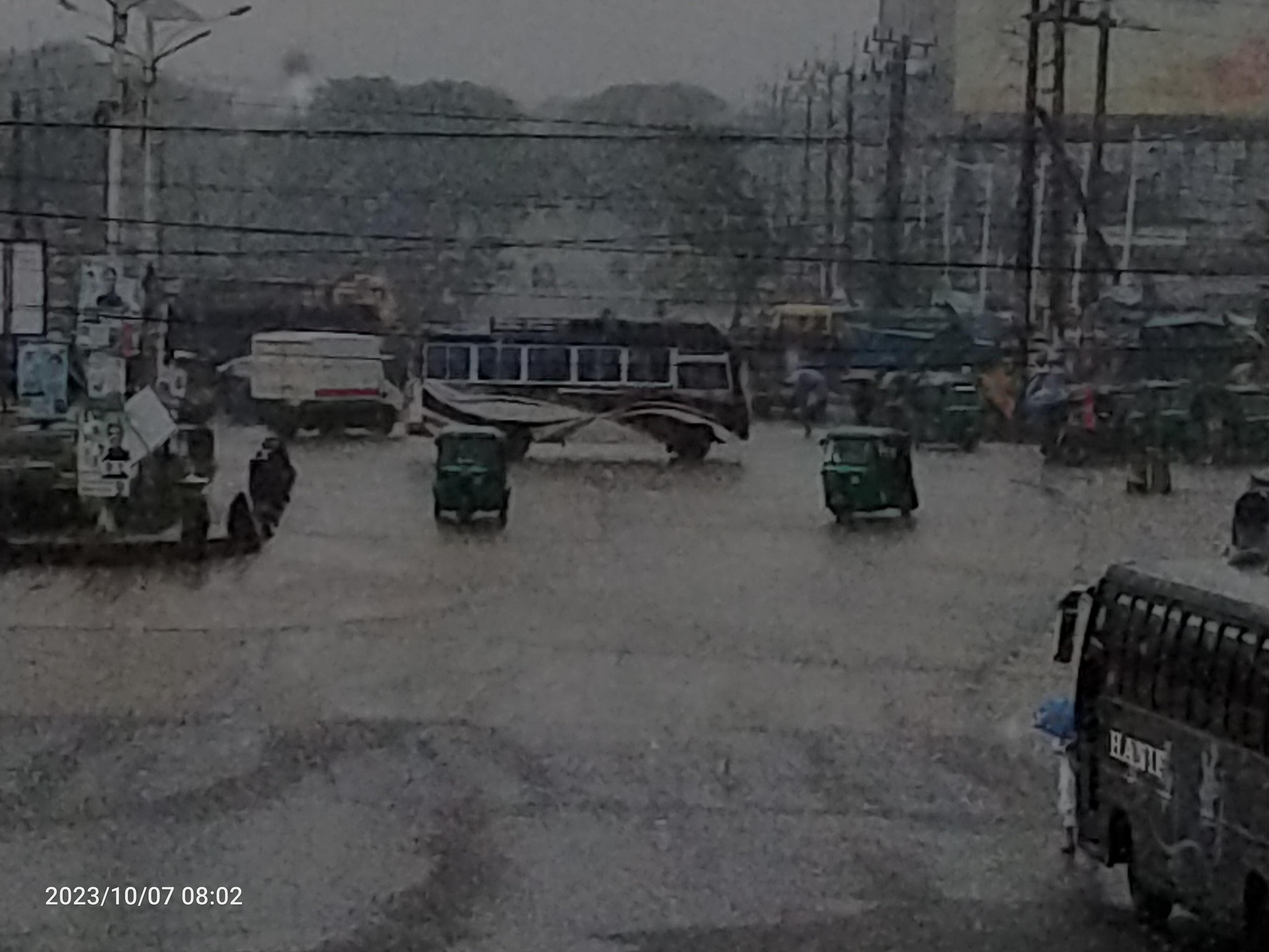Bus: (1029, 535, 1269, 935), (406, 294, 779, 483)
Truck: (230, 311, 412, 453)
